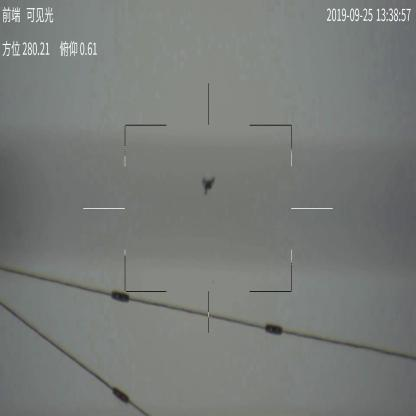uav: (199, 168, 216, 192)
